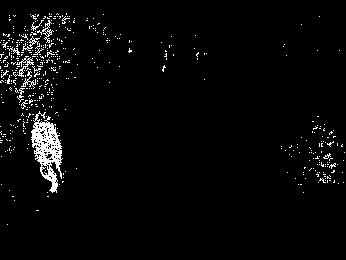person: (32, 112, 63, 194)
